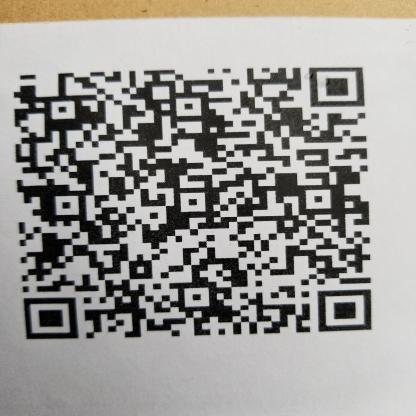qr: (11, 63, 375, 340)
